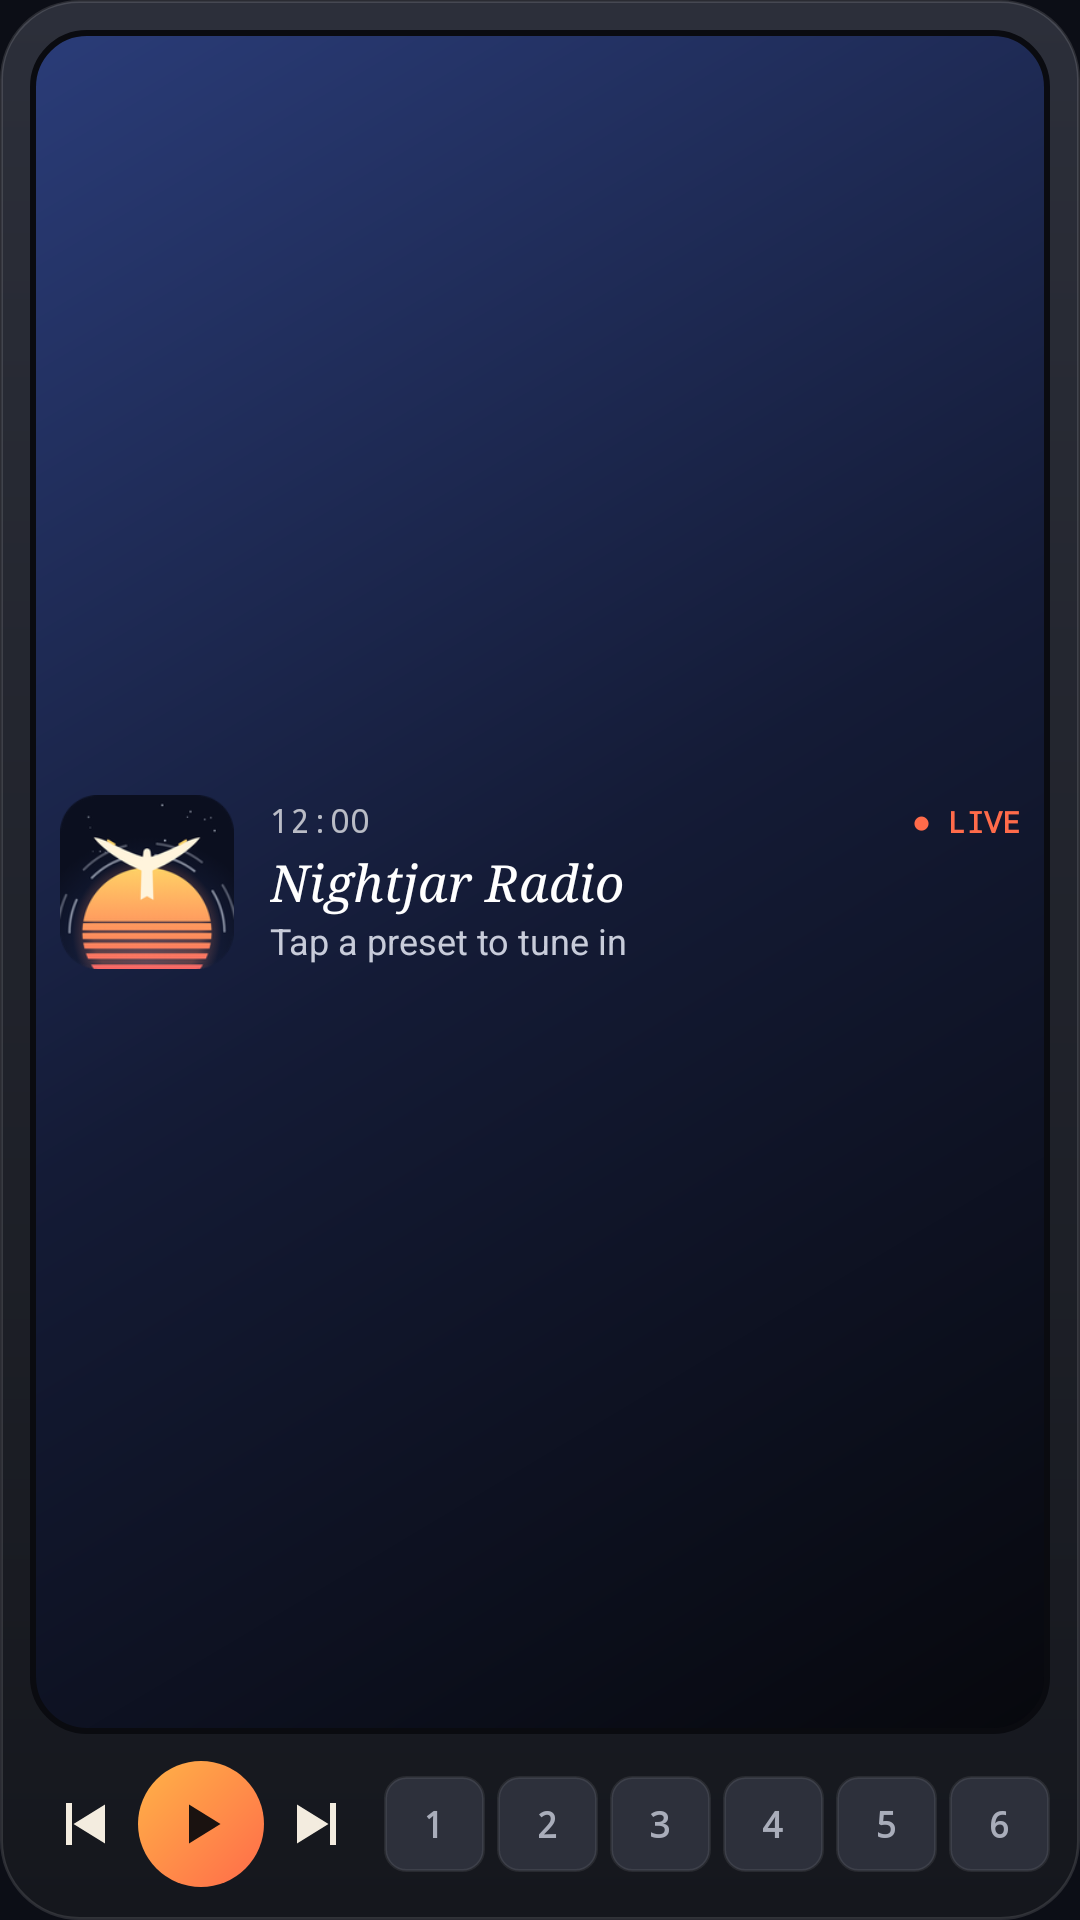

Icon bounding boxes for this 1080×1920 phone screenshot, format rect(x1, y1, x2, y2):
Next station: rect(297, 1803, 336, 1845)
Play or pause: rect(138, 1761, 264, 1887)
Previous station: rect(66, 1803, 105, 1845)
